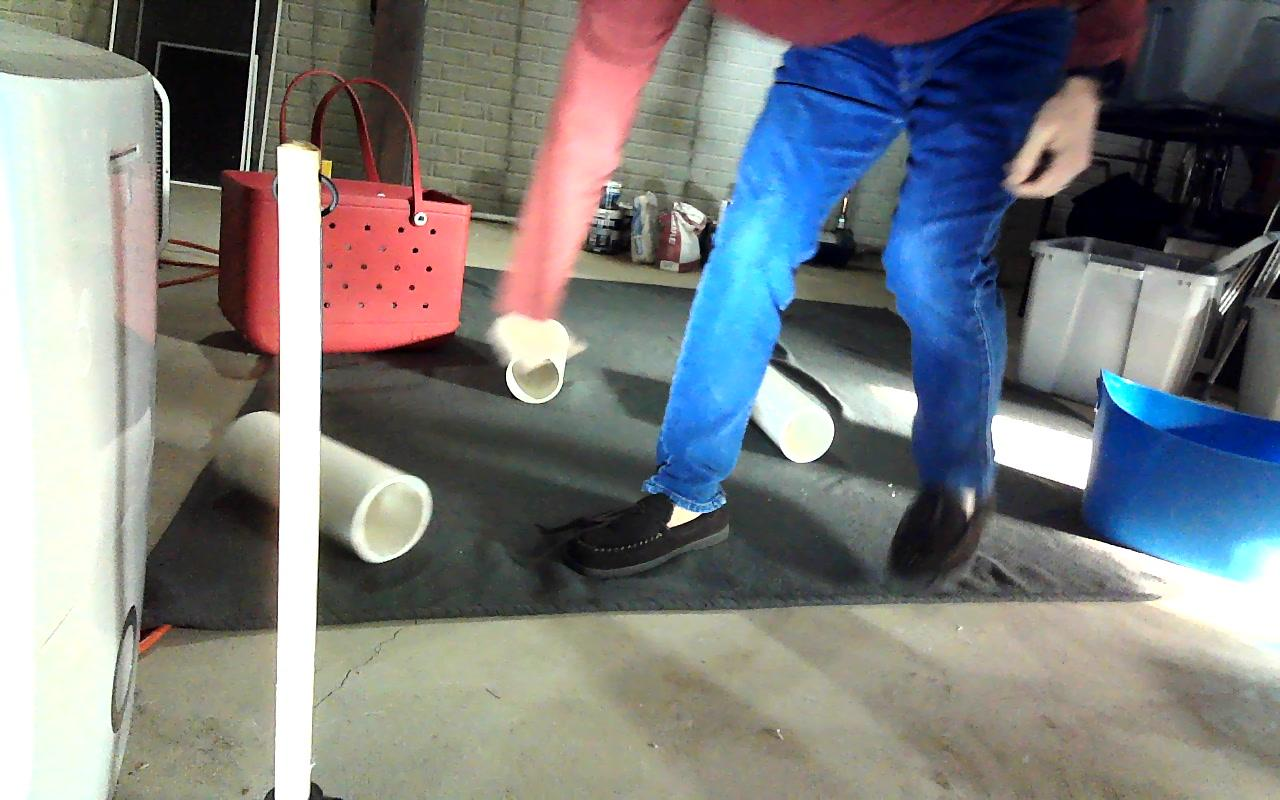coral: (321, 429, 431, 562), (752, 364, 834, 461), (491, 314, 573, 403)
